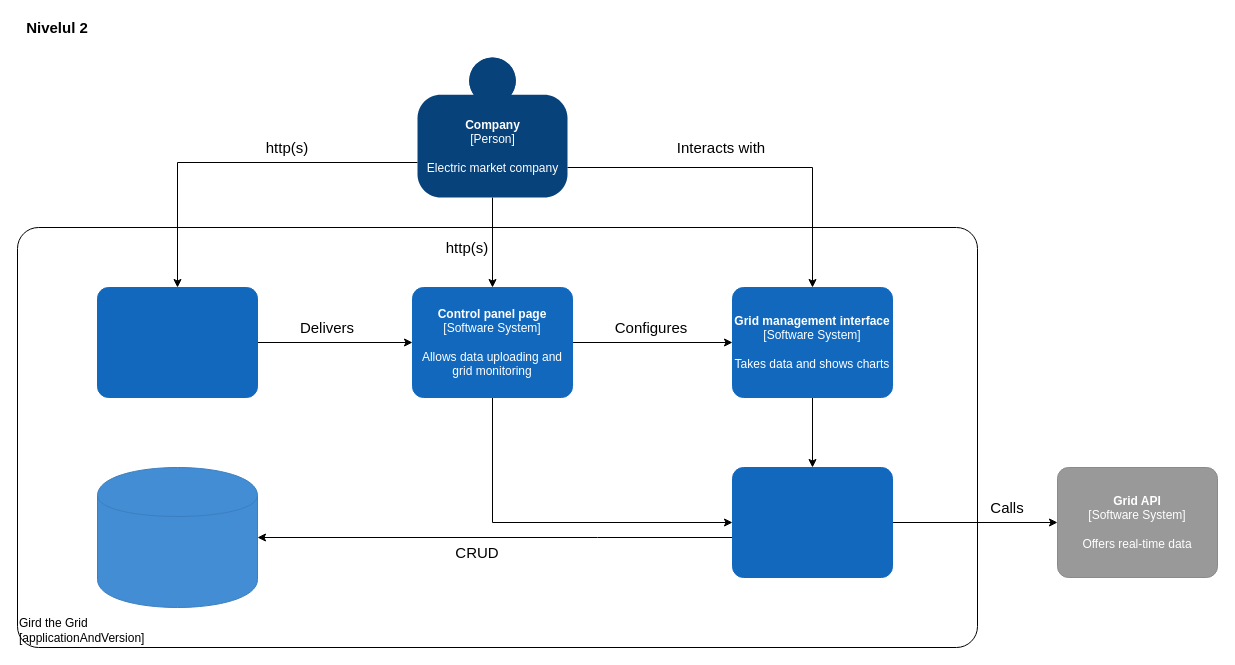
Image size: 1235x665. Some labels were removed from this diagram. Here are the shapes that lost their labels. From the top down, the box of each, then its label:
(96, 286, 258, 398): Web application [Software System] [.net + Blazor]
(96, 466, 258, 608): Database [Container: Technology] Description
(732, 466, 892, 578): API App [Software System] Server application which deals with user requests
